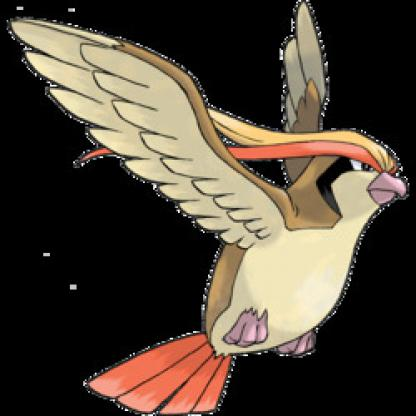Pidgeot: (1, 6, 412, 415)
